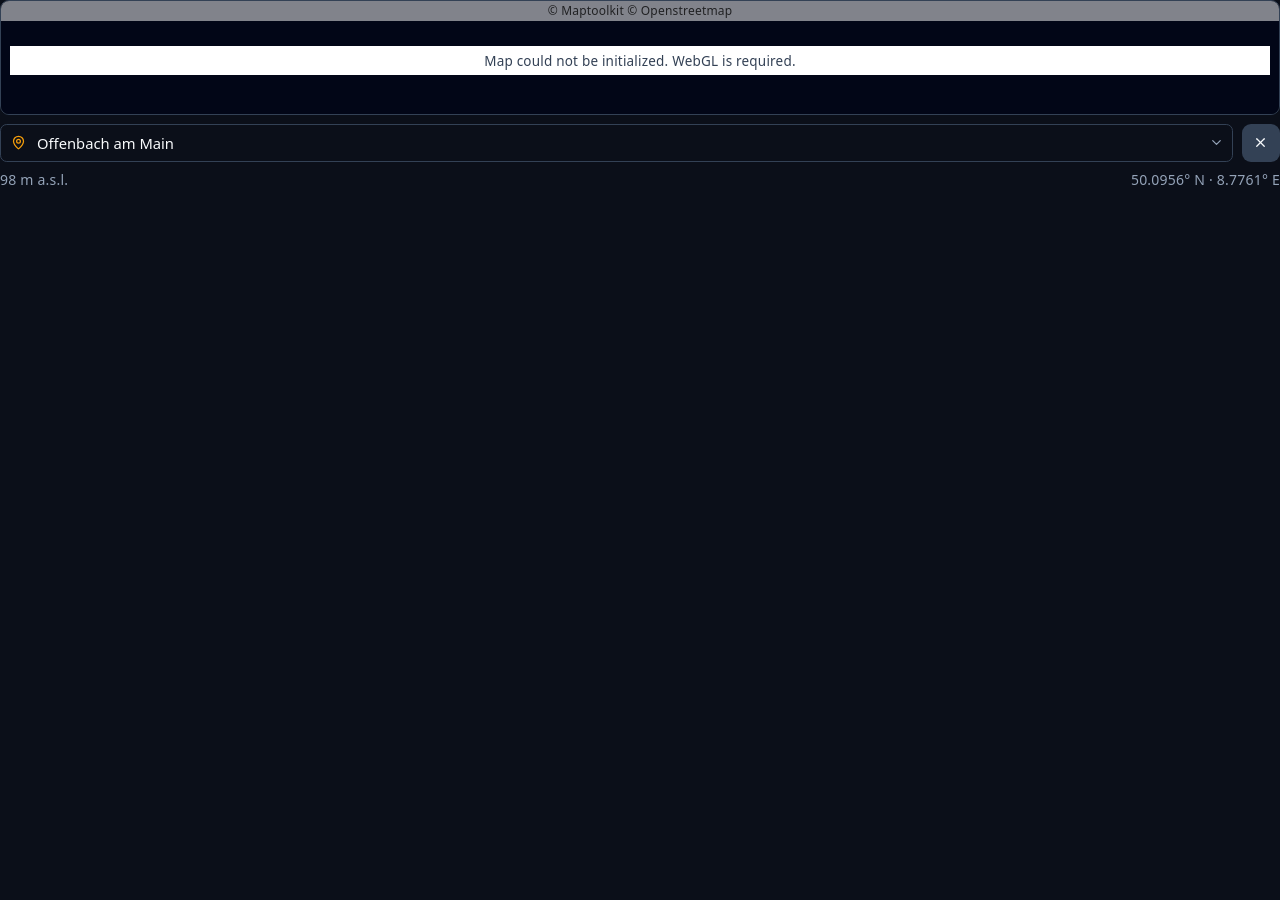
Test: LocationSelector Component › Full-Screen Map Location Picker Mode › Cancel button closes full-screen map without changing location
Click the element with class "map-wrapper": x=640, y=57 [0, 0, 1279, 114]
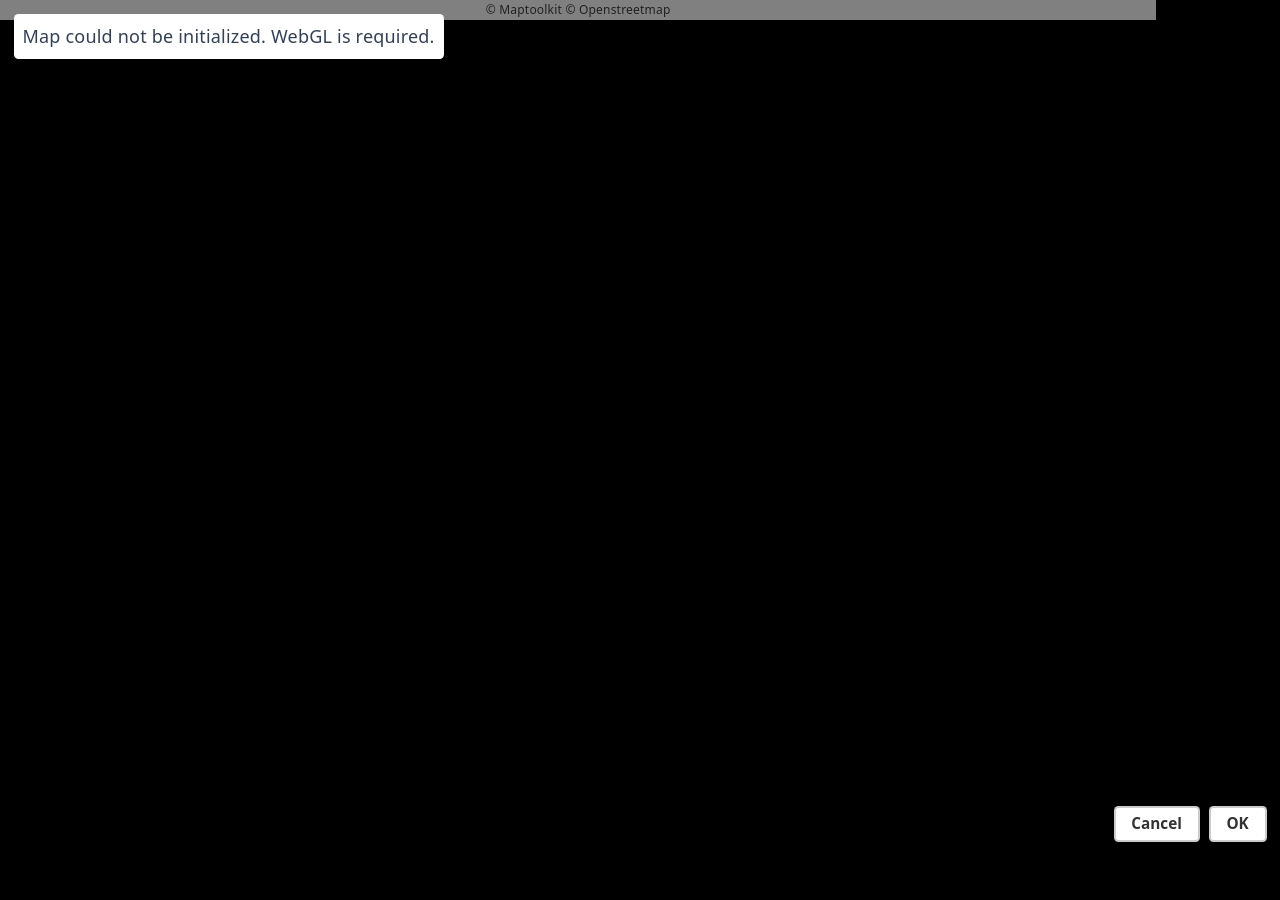
Click the button "Cancel": x=1157, y=824 [1114, 806, 1200, 842]
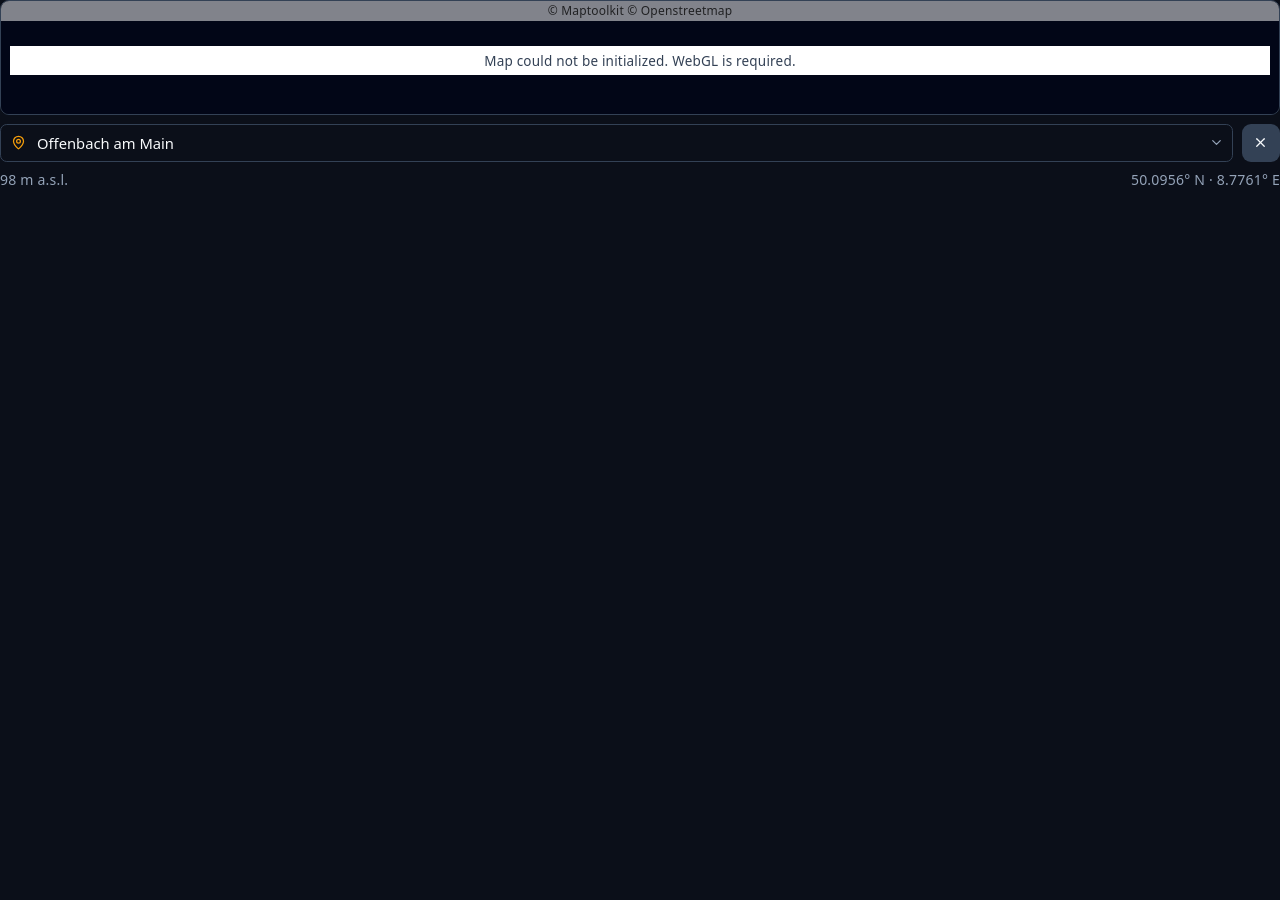
Result: the element with class "fullscreen-map-modal" is gone
